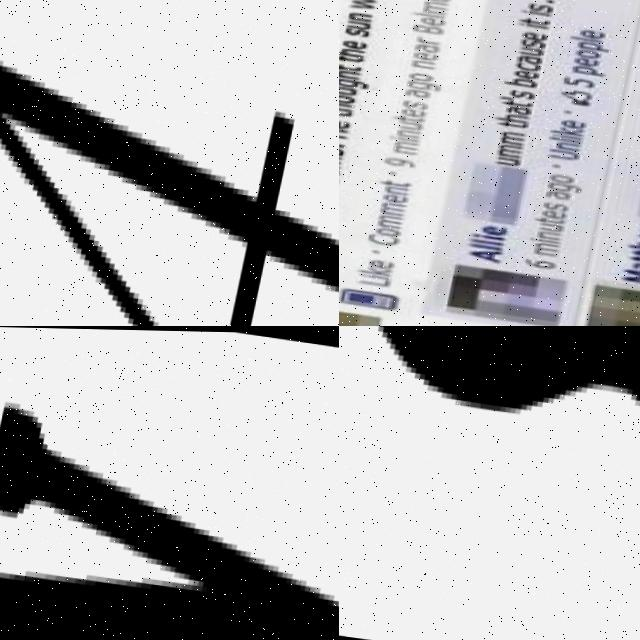1: (567, 73, 603, 86)
2: (532, 255, 566, 267)
5: (390, 154, 425, 166)
N: (0, 397, 339, 640)
S: (339, 326, 640, 551)
